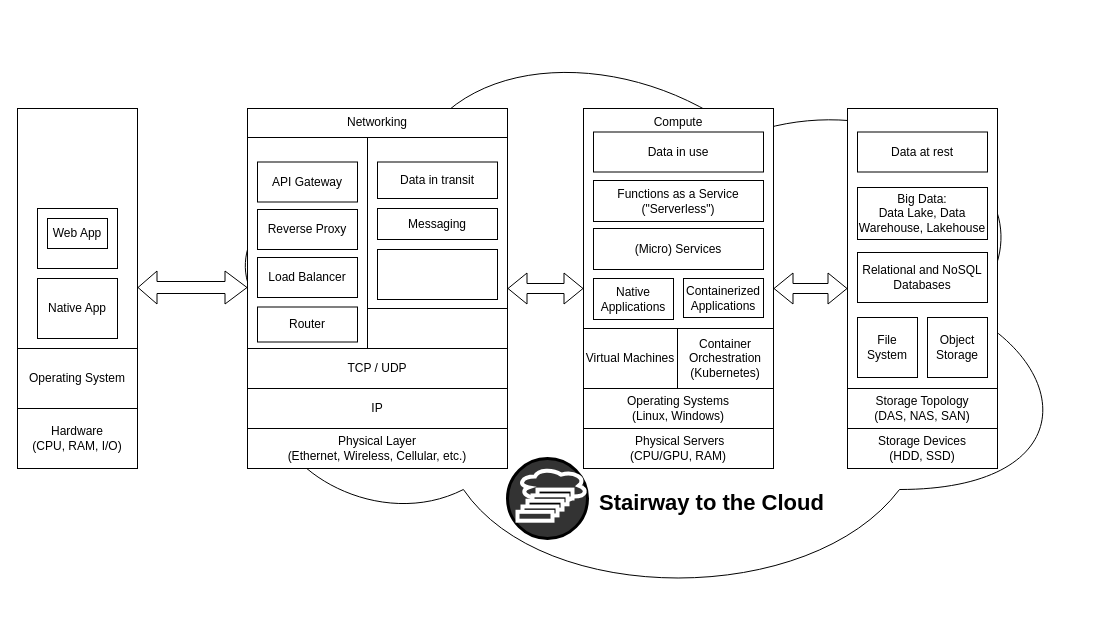
Image size: 1095x625. Some labels were removed from this diagram. Each missing label, with the box of its shape:
Access: (246, 136, 368, 348)
Application Protocols (HTTP, WebSockets, etc.): (366, 308, 508, 348)
Browser: (36, 208, 118, 268)
Client Side PC / Phone / Device: (16, 108, 138, 468)
Communication: (366, 136, 508, 308)
Data Storage: (846, 108, 998, 468)
Web Services (REST, GraphQL, gRPC, etc.): (376, 248, 498, 300)
